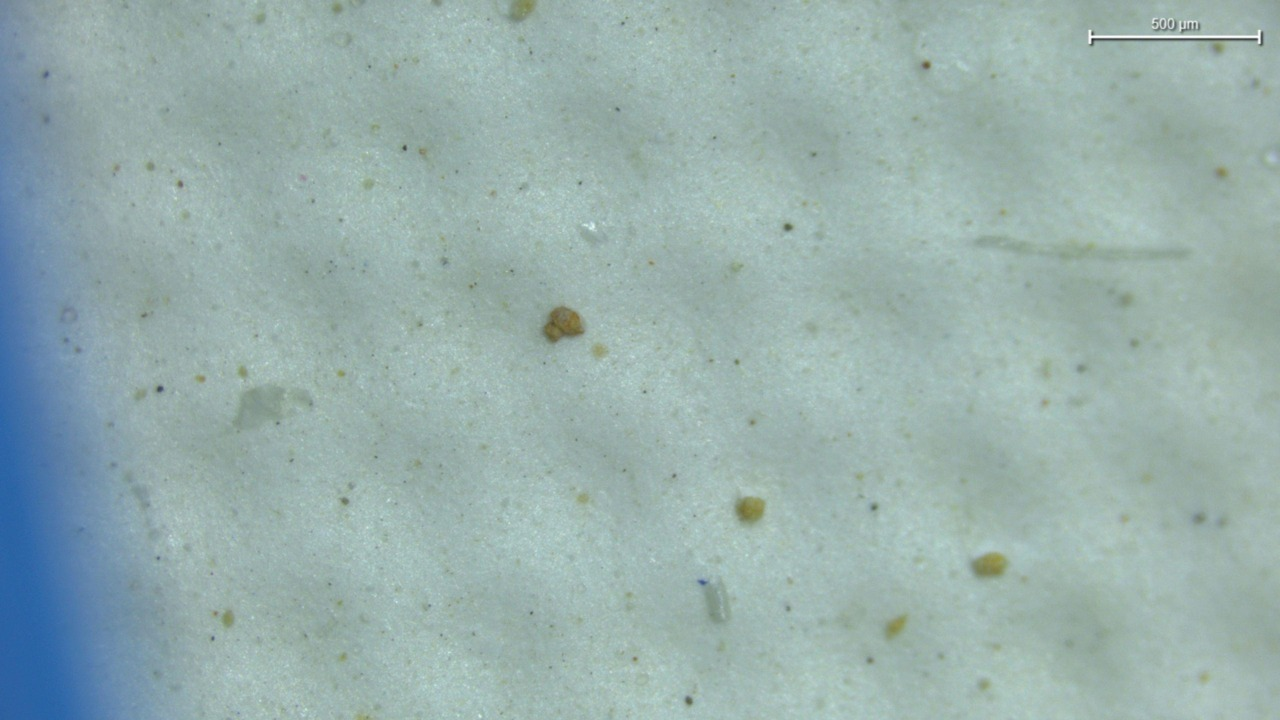microplastic_fragment: (577, 222, 606, 244)
